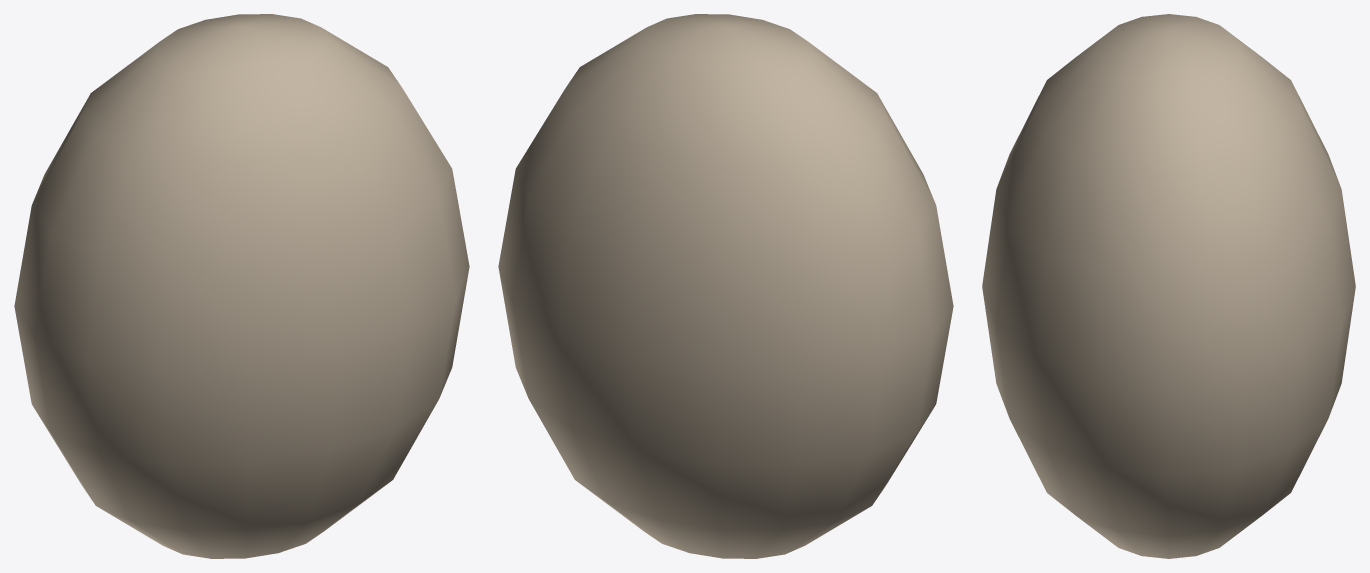
Rendered from seedstage_willow.glb.
3 renders of one model, left to right at view 1: azimuth 30°, elevation 25°; view 2: azimuth 150°, elevation 25°; view 3: azimuth 270°, elevation 25°, orthographic. The views are drawn at different scales.
Visible parts, largest first — view 1: WillowSeed; view 2: WillowSeed; view 3: WillowSeed.
Part boxes in pixels (left/top/right/bottom): WillowSeed: left=14, top=14, right=469, bottom=558; WillowSeed: left=498, top=14, right=953, bottom=558; WillowSeed: left=982, top=14, right=1355, bottom=558.
Bounding box in the file's own units: 0.3 × 0.36 × 0.24.
